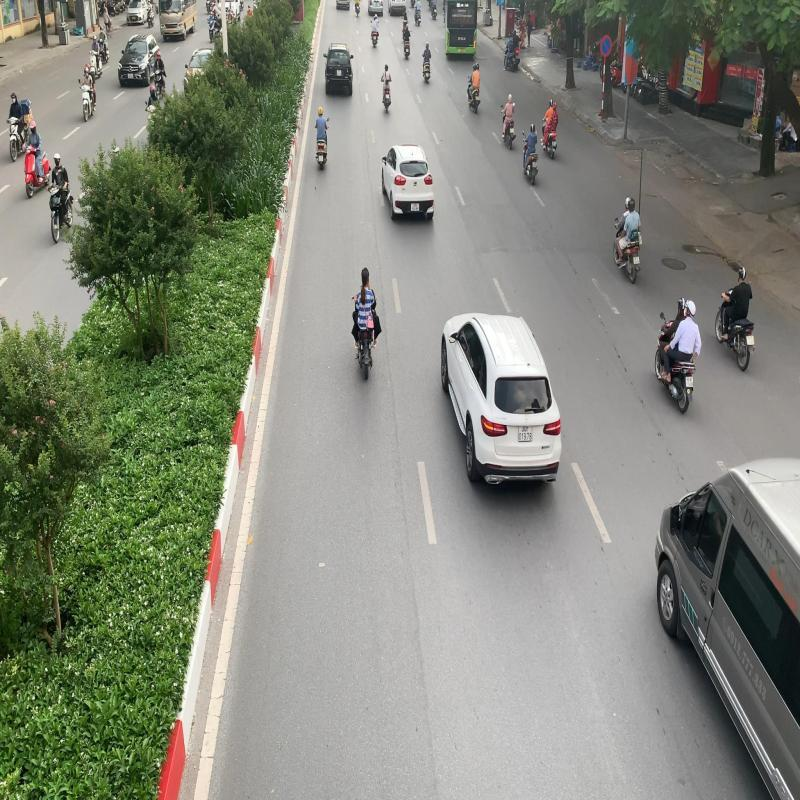helmet: (684, 298, 697, 318), (676, 296, 686, 312)
licenseplate: (684, 376, 694, 388)
motorcyclist: (653, 294, 702, 412)
